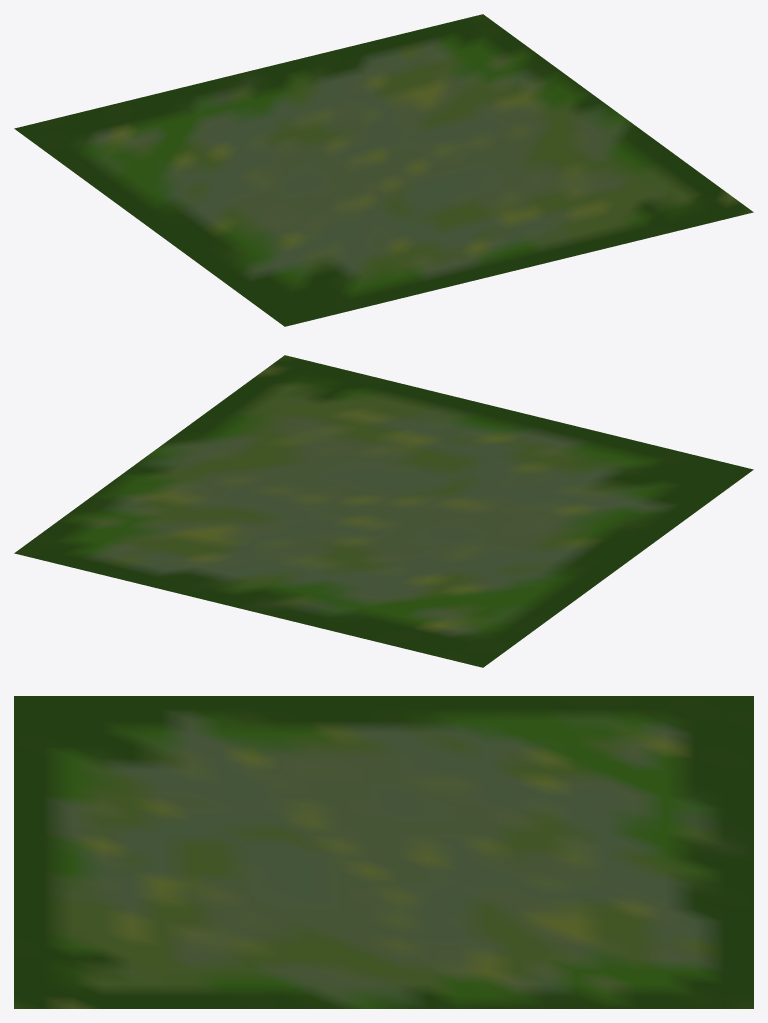
File: SM_Terrain_Plains.fbx
3 views of the same model, one above another, from view 1: azimuth 30°, elevation 25°; view 2: azimuth 150°, elevation 25°; view 3: azimuth 270°, elevation 25° (orthographic). The views are drawn at different scales.
Parts seen in each view (by area): view 1: SM_Terrain_Plains; view 2: SM_Terrain_Plains; view 3: SM_Terrain_Plains.
Boxes of the visible parts, left/top/right/bottom form: SM_Terrain_Plains: left=14, top=14, right=753, bottom=326; SM_Terrain_Plains: left=14, top=355, right=753, bottom=667; SM_Terrain_Plains: left=14, top=696, right=753, bottom=1008.
Bounding box in the file's own units: 38400 × 0.00626 × 38400.
